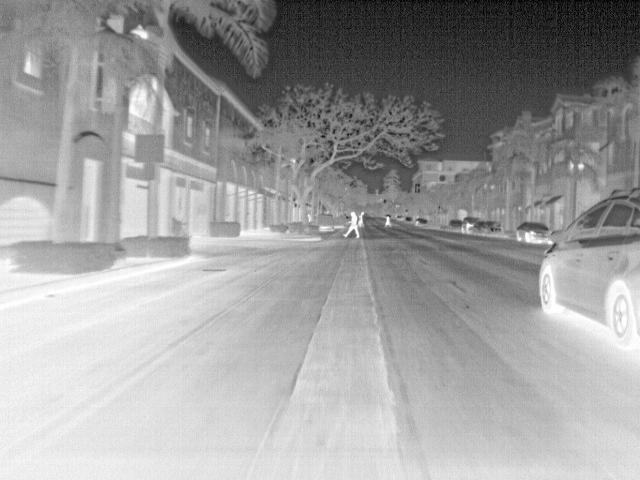car: (539, 186, 639, 342), (513, 220, 555, 245), (468, 220, 506, 238), (444, 218, 465, 232), (414, 216, 431, 228)
person: (345, 212, 363, 240), (383, 212, 395, 229)
